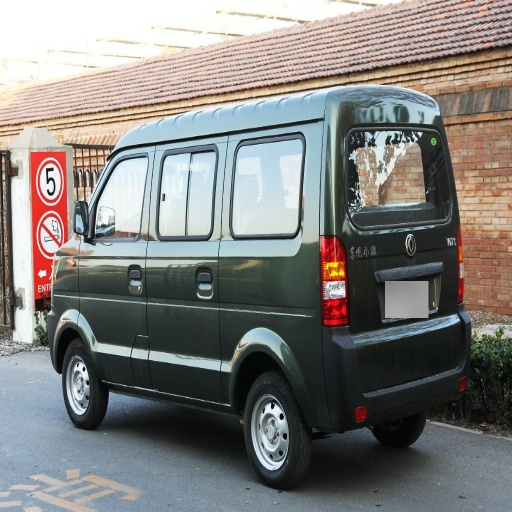back_bumper: (358, 308, 468, 417)
back_glass: (349, 124, 433, 205)
back_left_door: (147, 145, 223, 389)
back_left_light: (319, 235, 348, 327)
back_right_door: (239, 140, 267, 199)
tailgate: (337, 201, 453, 325)
trunk: (217, 256, 408, 425)
